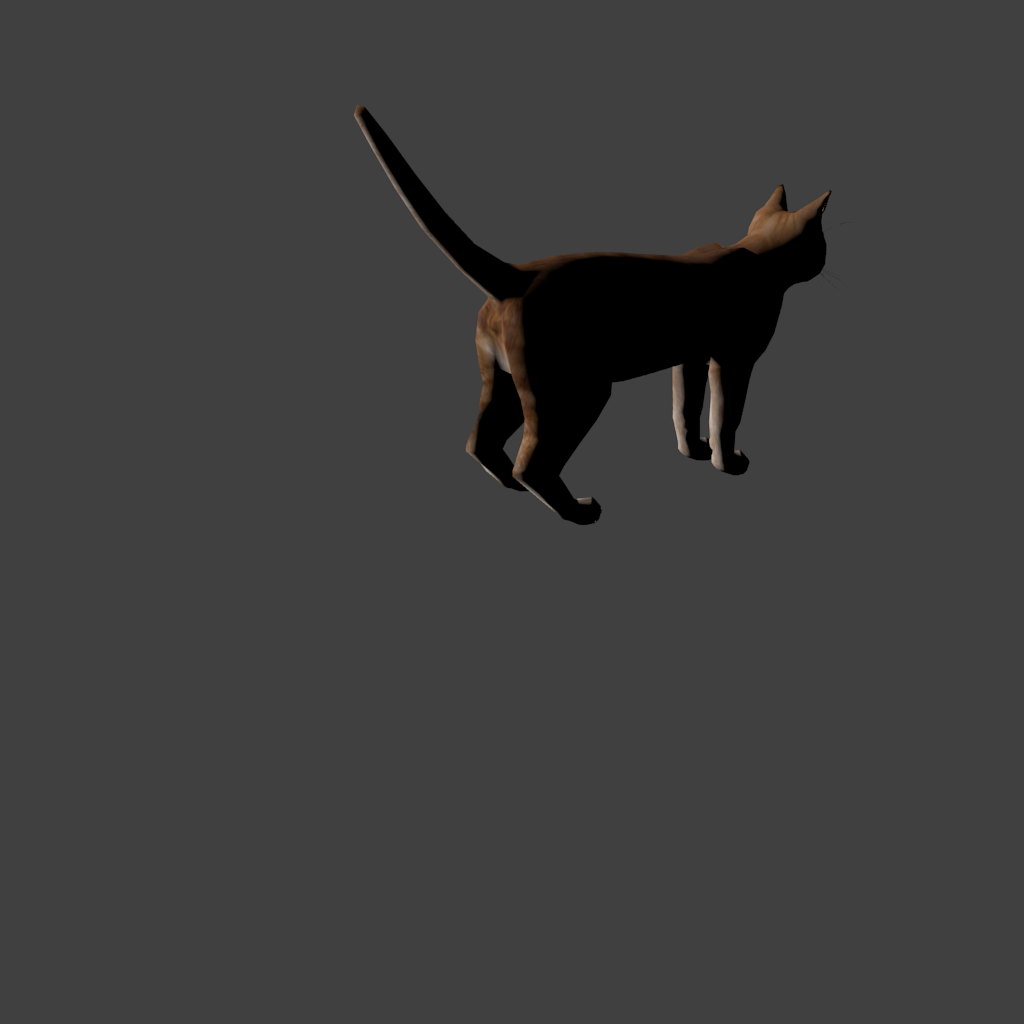Cat: (0, 0, 1024, 1024), (354, 105, 505, 420)
